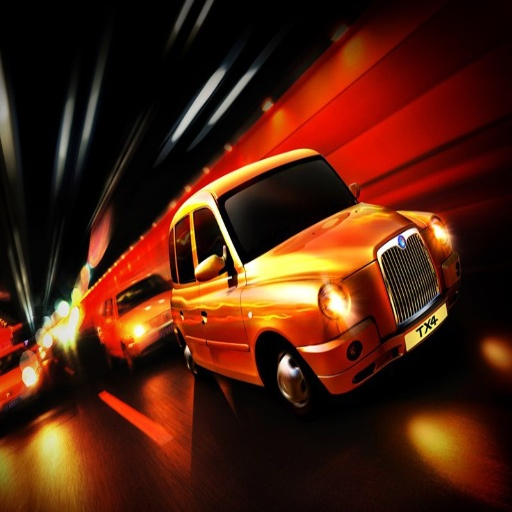front_right_door: (201, 227, 245, 356)
front_right_light: (318, 282, 356, 325)
